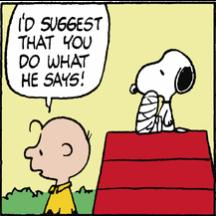charlie: (21, 114, 93, 214)
snoopy: (127, 46, 197, 134)
